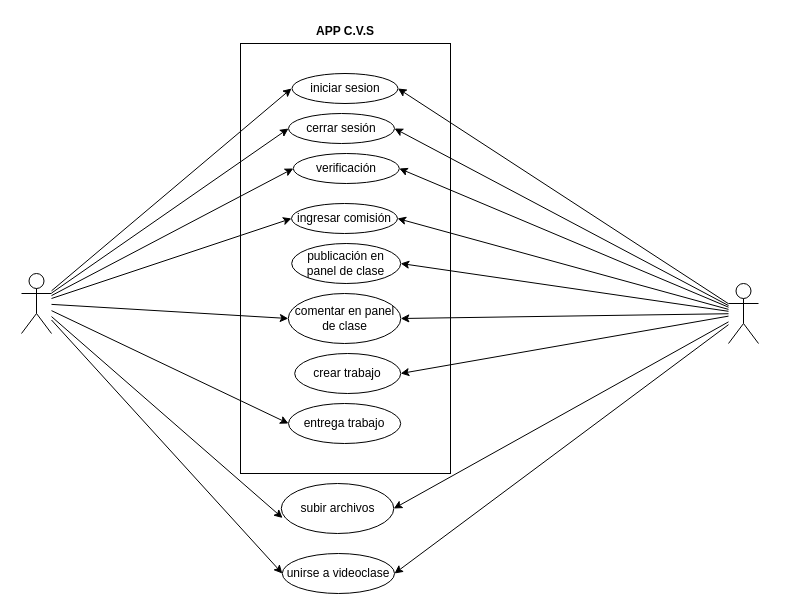
Image size: 786x611. Some labels were removed from this diagram. Each missing label, with the box of its shape:
alumno: (20, 272, 52, 334)
Instructor: (728, 282, 758, 344)
